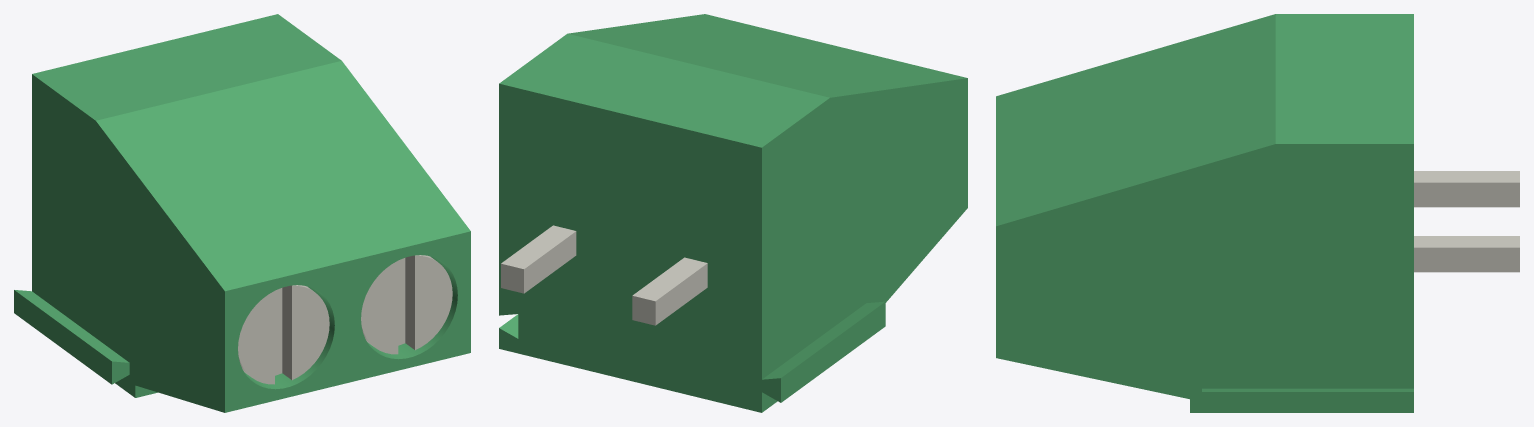
Rendered from TerminalBlock_Phoenix_MKDS-1,5-2-5.08_1x02_P5.08mm_Horizontal.glb.
The picture shows the model from 3 angles, left to right: view 1: azimuth 30°, elevation 25°; view 2: azimuth 150°, elevation 25°; view 3: azimuth 270°, elevation 25°; orthographic projection. The views are drawn at different scales.
Parts seen in each view (by area): view 1: TerminalBlock_Phoenix_MKDS-1,5-2-5.08_1x02_P5.08mm_Horizonta; view 2: TerminalBlock_Phoenix_MKDS-1,5-2-5.08_1x02_P5.08mm_Horizonta; view 3: TerminalBlock_Phoenix_MKDS-1,5-2-5.08_1x02_P5.08mm_Horizonta.
Part boxes in pixels (x1=…): TerminalBlock_Phoenix_MKDS-1,5-2-5.08_1x02_P5.08mm_Horizonta: x1=14, y1=14, x2=470, y2=412; TerminalBlock_Phoenix_MKDS-1,5-2-5.08_1x02_P5.08mm_Horizonta: x1=499, y1=14, x2=967, y2=412; TerminalBlock_Phoenix_MKDS-1,5-2-5.08_1x02_P5.08mm_Horizonta: x1=996, y1=14, x2=1519, y2=412.
Size of the model in its own units: 0.0109 by 0.0098 by 0.0173.
